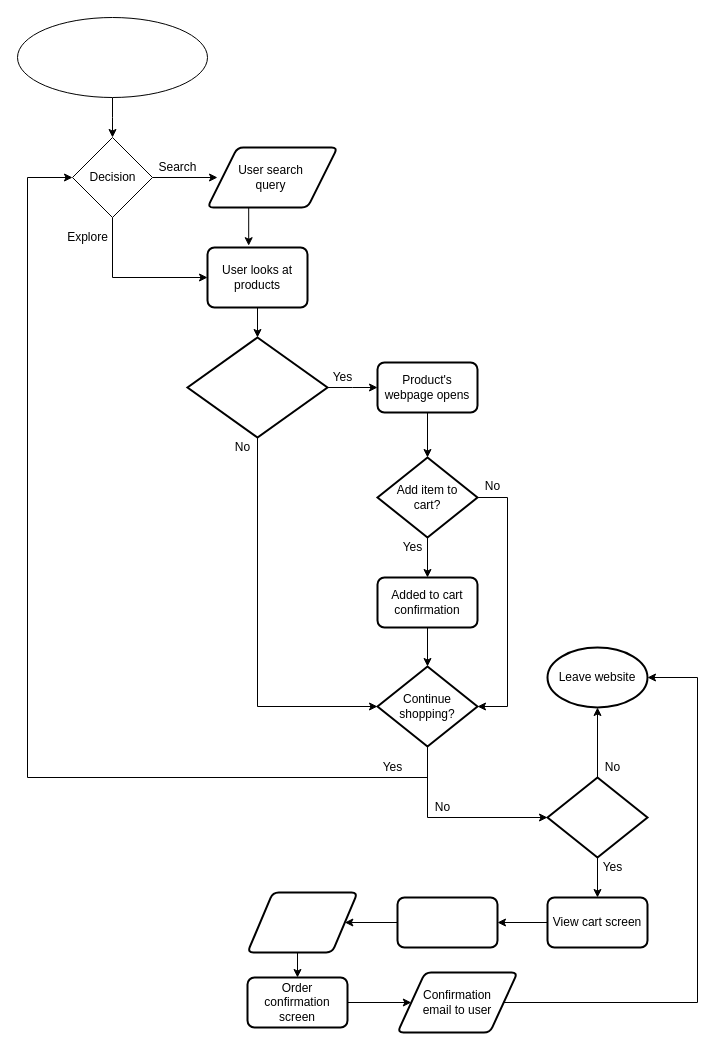
Some shapes in this 723 by 1051 pixel diagram are drawn without their labels. Each missing label, with the box of its shape:
Checkout?: (546, 776, 648, 858)
Enter website: (16, 16, 208, 98)
User enters payment info: (246, 891, 358, 953)
View payment screen: (396, 896, 498, 948)
View this specific product?: (186, 336, 328, 438)
